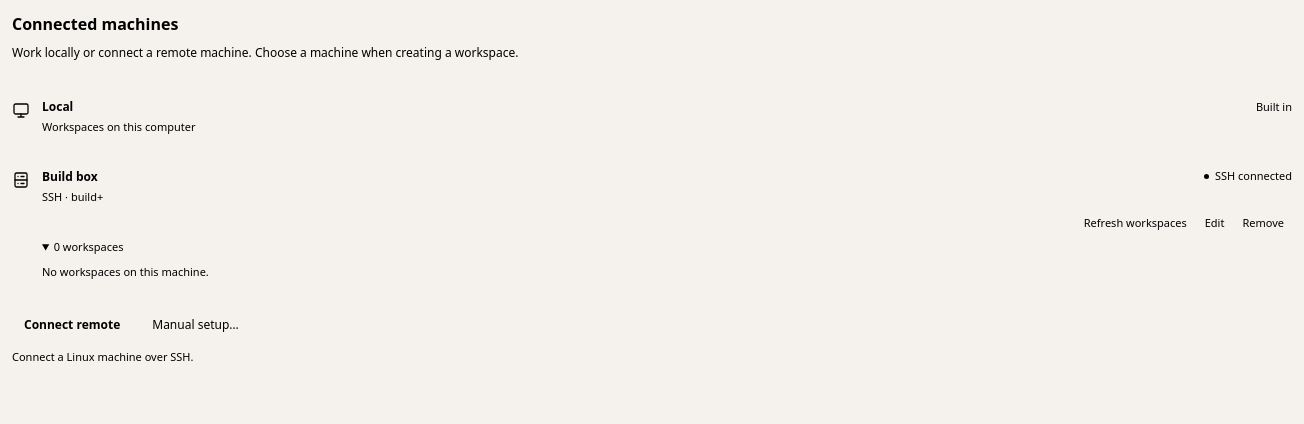
Test: ConnectionsPane › rechecks removal against remote membership including Trash, rather than local projects
Expected: the heading "0 workspaces" is shown, [42,239,124,256]
Click the button "Remove": click(1263, 223) [1234,214,1292,231]
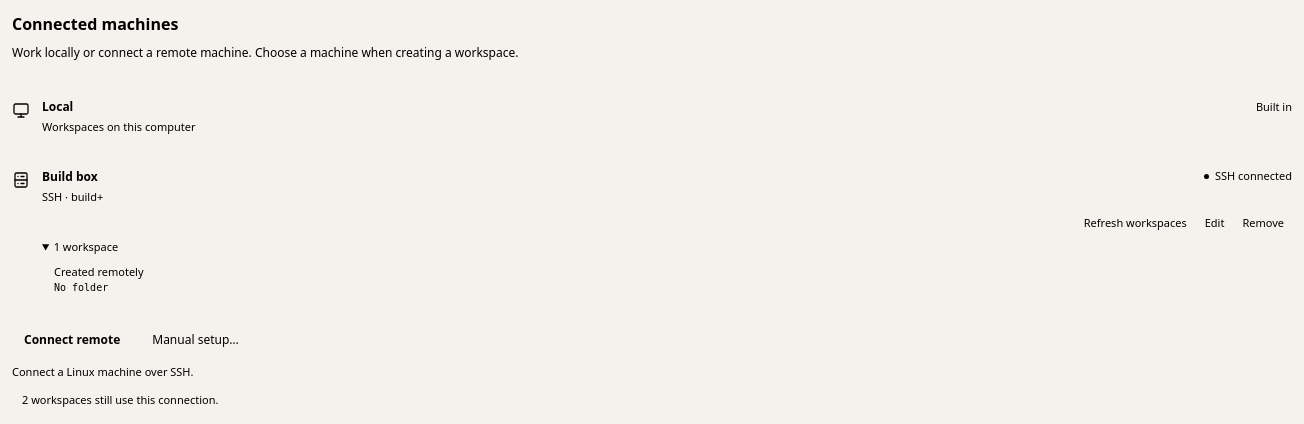
Expected: the text "2 workspaces still use this connection." is shown, [22,392,218,407]
